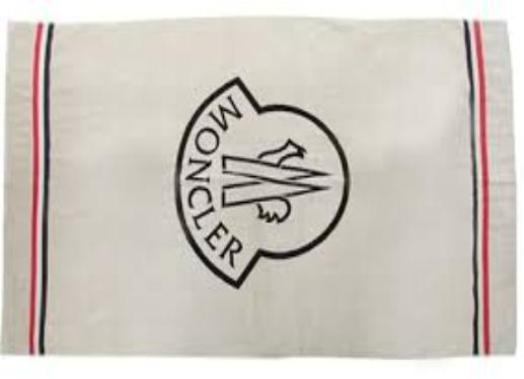MONCLER: (221, 137, 338, 225)
